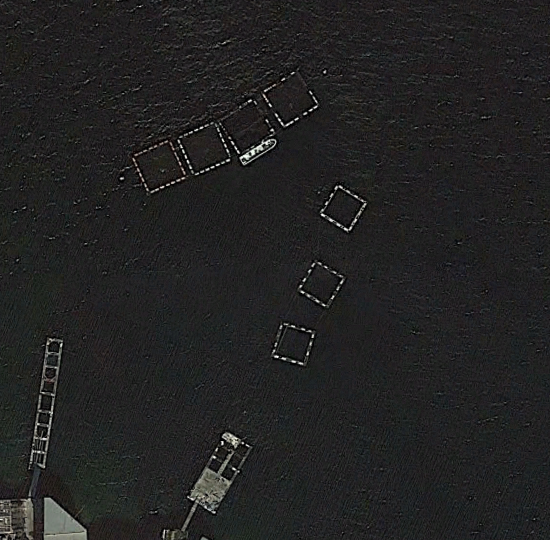platform: (186, 464, 232, 516)
ship: (231, 134, 294, 173)
square: (256, 64, 331, 131), (127, 127, 193, 202), (216, 91, 282, 158), (269, 314, 329, 380), (176, 108, 233, 177), (316, 181, 374, 238), (296, 250, 352, 307)
